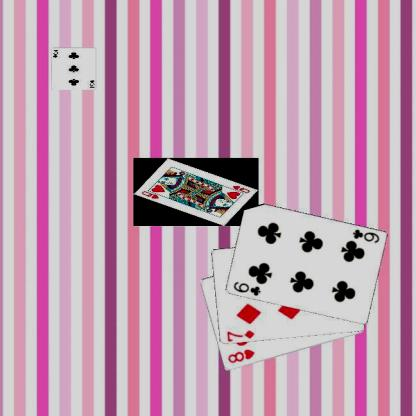6C: (349, 226, 380, 245), (230, 279, 262, 297)
7D: (224, 327, 256, 342)
8H: (225, 346, 256, 364)
